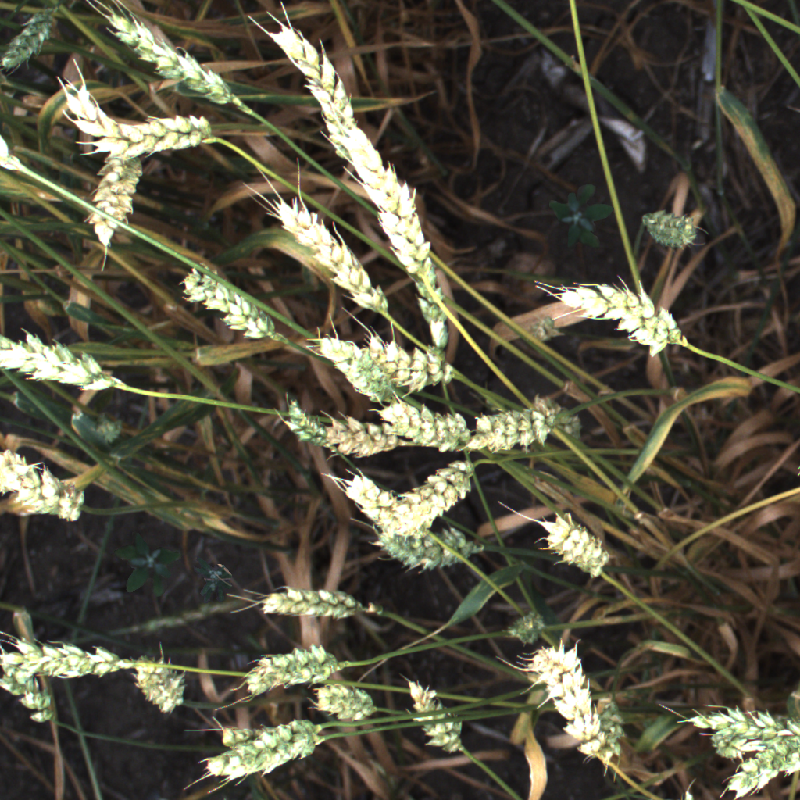spikelet: (330, 110, 449, 289), (257, 194, 396, 319), (269, 15, 366, 164), (103, 8, 235, 103), (56, 82, 210, 159), (550, 276, 692, 356), (524, 641, 607, 763), (375, 454, 485, 533), (457, 391, 580, 461), (1, 331, 118, 392), (202, 721, 327, 778), (179, 264, 274, 337), (364, 391, 474, 454), (1, 632, 142, 677), (1, 449, 85, 521), (313, 330, 396, 402), (366, 331, 457, 392), (1, 1, 68, 80), (346, 475, 426, 540), (206, 713, 335, 753), (318, 405, 410, 460), (91, 148, 142, 245), (678, 710, 796, 751), (371, 525, 482, 568), (239, 643, 340, 690), (542, 510, 610, 578), (406, 679, 464, 757), (260, 584, 373, 623), (725, 741, 796, 800), (285, 400, 343, 453), (128, 657, 187, 708), (639, 206, 704, 252), (1, 667, 56, 721), (414, 288, 458, 351), (312, 683, 378, 721), (589, 693, 622, 768), (507, 608, 546, 641), (93, 417, 121, 441)
weed: (100, 517, 193, 611), (549, 184, 614, 251), (178, 551, 240, 611)
